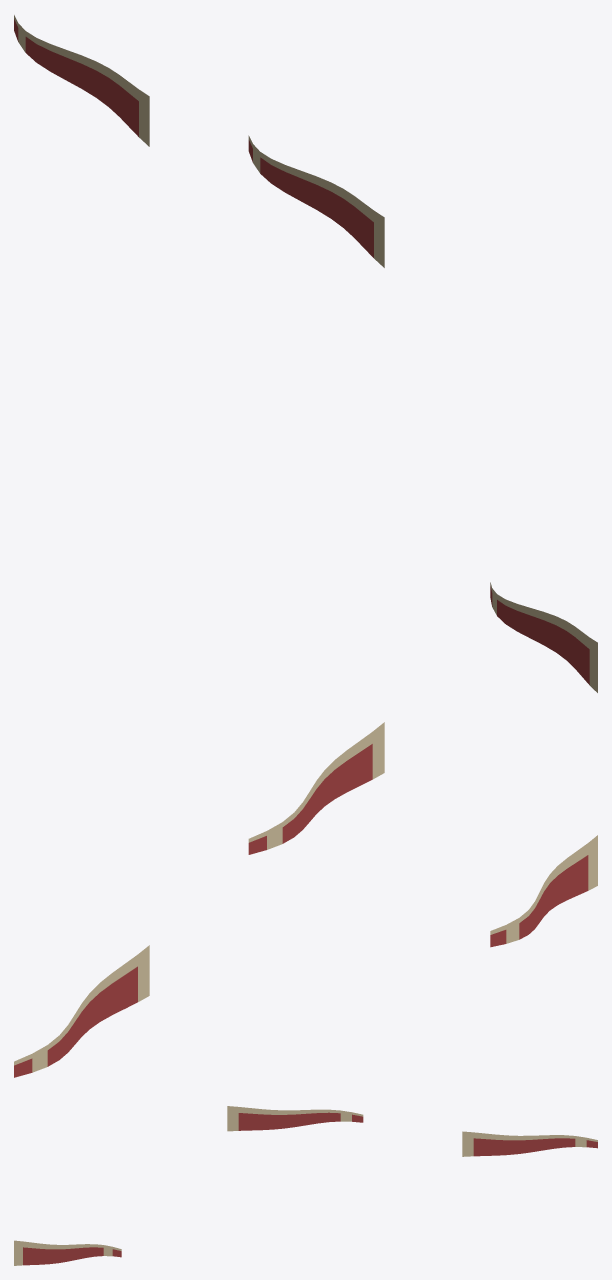
The model's file is pennants_streamer.glb.
The picture shows the model from 3 angles, top to bottom: view 1: azimuth 30°, elevation 25°; view 2: azimuth 150°, elevation 25°; view 3: azimuth 270°, elevation 25°; orthographic projection. The views are drawn at different scales.
Parts seen in each view (by area): view 1: Main pennant.003, Aft pennant.003, Fore pennant.003; view 2: Main pennant.003, Aft pennant.003, Fore pennant.003; view 3: Main pennant.003, Aft pennant.003, Fore pennant.003.
Part boxes in pixels (<box>): Main pennant.003: <box>248,135,384,267</box>; Aft pennant.003: <box>14,15,149,146</box>; Fore pennant.003: <box>490,582,597,692</box>; Main pennant.003: <box>248,722,384,854</box>; Aft pennant.003: <box>14,945,149,1077</box>; Fore pennant.003: <box>490,835,597,947</box>; Main pennant.003: <box>227,1106,363,1131</box>; Aft pennant.003: <box>462,1131,597,1156</box>; Fore pennant.003: <box>14,1240,121,1265</box>.
Size of the model in its own units: 0.1973 by 3.77 by 12.47.
